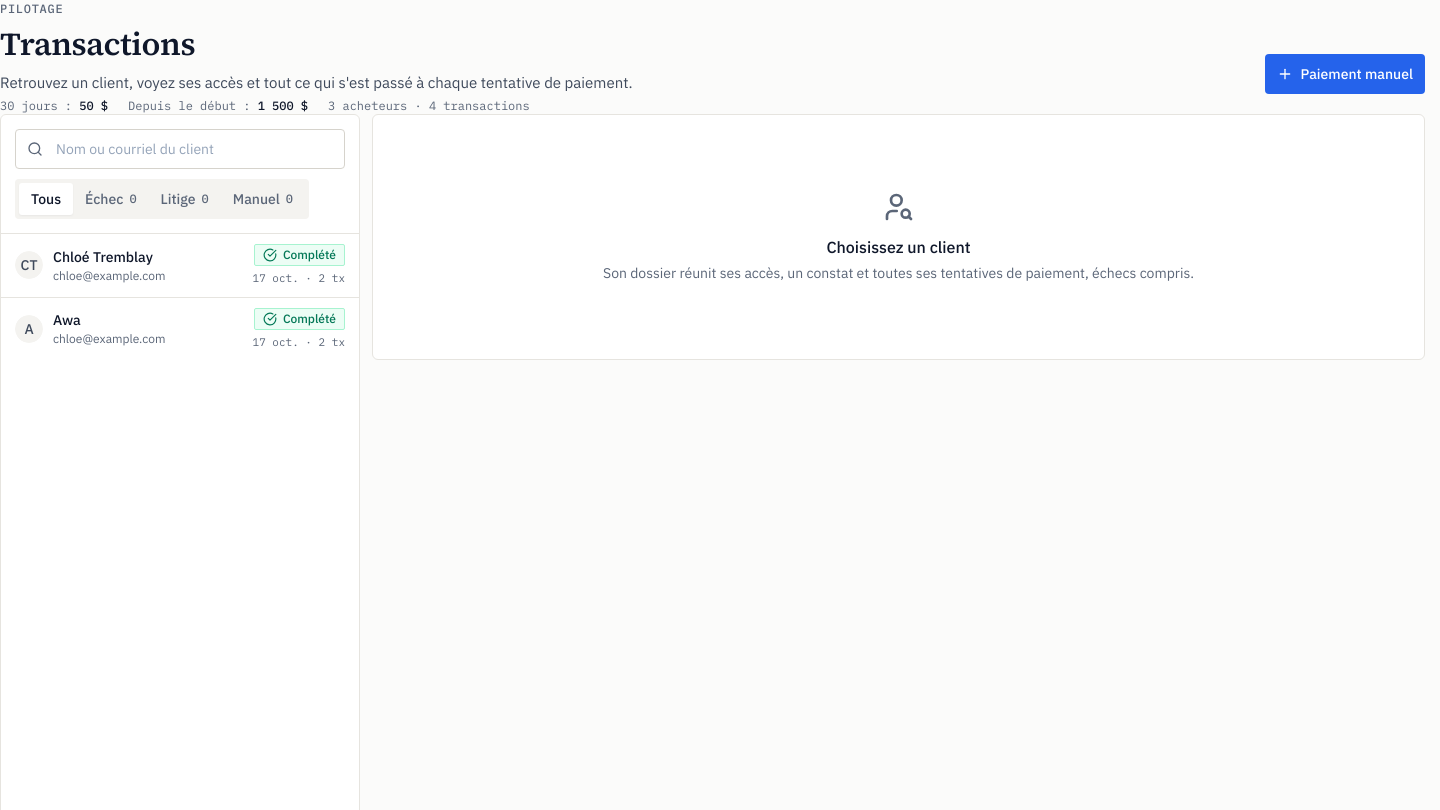
Test: TransactionsClient — synthèse › « Paiement manuel » ouvre la saisie sans client imposé
The image size is (1440, 810).
Step 1. Click the button "Paiement manuel" → (1345, 74), box 1264,54 -> 1425,94
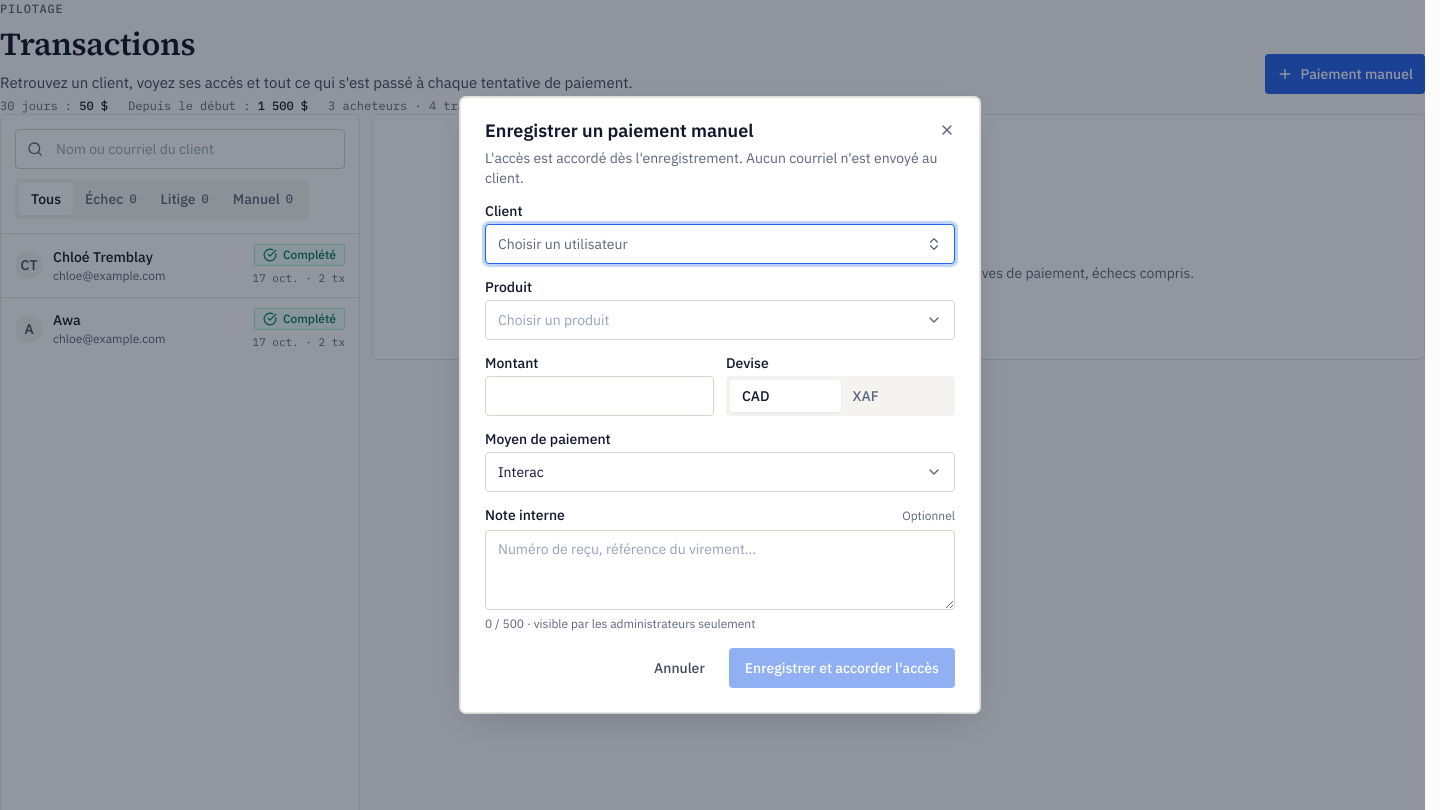
Expected: the text "Choisir un utilisateur" is shown, 498,234 -> 628,254
